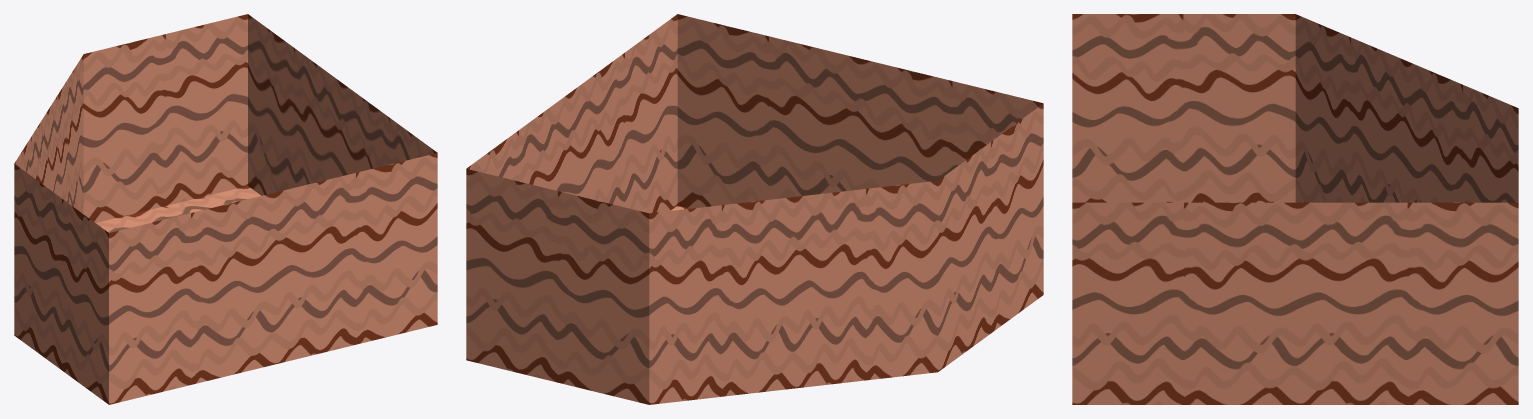
File: a_z2_ground_02.fbx
3 views of the same model, side by side, from view 1: azimuth 30°, elevation 25°; view 2: azimuth 150°, elevation 25°; view 3: azimuth 270°, elevation 25° (orthographic). The views are drawn at different scales.
Visible parts, largest first — view 1: a_z2_ground_02; view 2: a_z2_ground_02; view 3: a_z2_ground_02.
Part boxes in pixels (box(x1,y1,x2,y2)): a_z2_ground_02: box(14, 14, 437, 404); a_z2_ground_02: box(466, 14, 1043, 404); a_z2_ground_02: box(1072, 14, 1518, 404).
Size of the model in its own units: 600 by 300 by 600.
